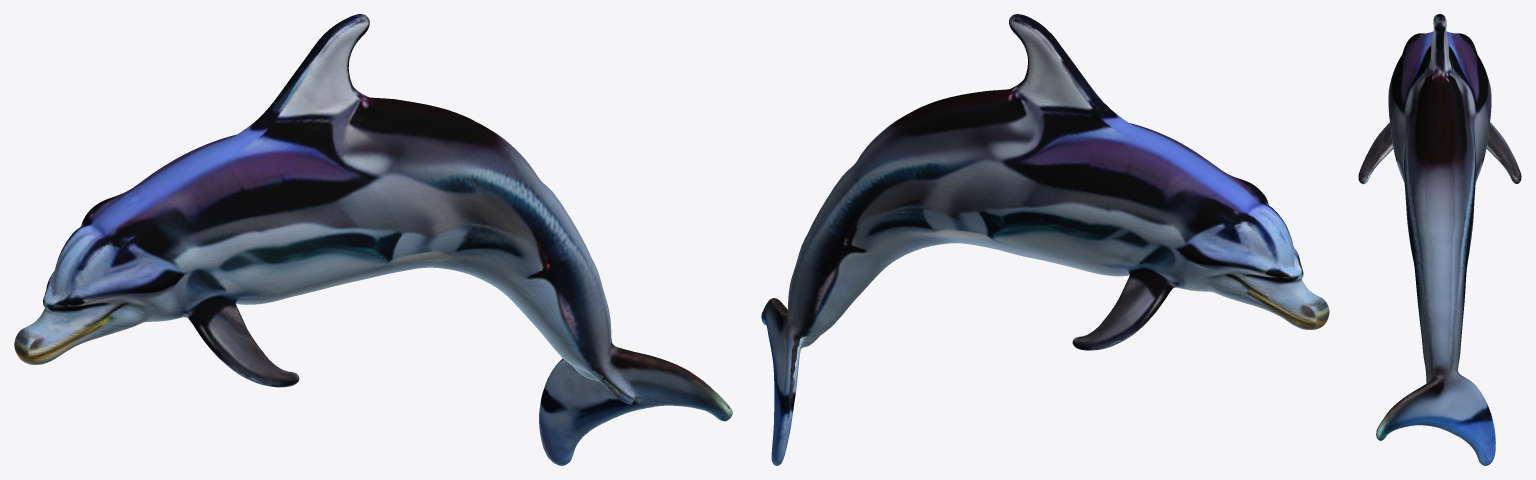
Rendered from paint_mesh_a dolphin.glb.
The picture shows the model from 3 angles, left to right: view 1: azimuth 30°, elevation 25°; view 2: azimuth 150°, elevation 25°; view 3: azimuth 270°, elevation 25°; orthographic projection. The views are drawn at different scales.
Parts seen in each view (by area): view 1: world; view 2: world; view 3: world.
Part boxes in pixels (bbox=[...]): world: bbox=[14, 14, 732, 465]; world: bbox=[761, 14, 1329, 465]; world: bbox=[1358, 14, 1521, 465].
Size of the model in its own units: 1.99 by 1.52 by 0.6077.
Materials: 1 (1 with a texture image).
